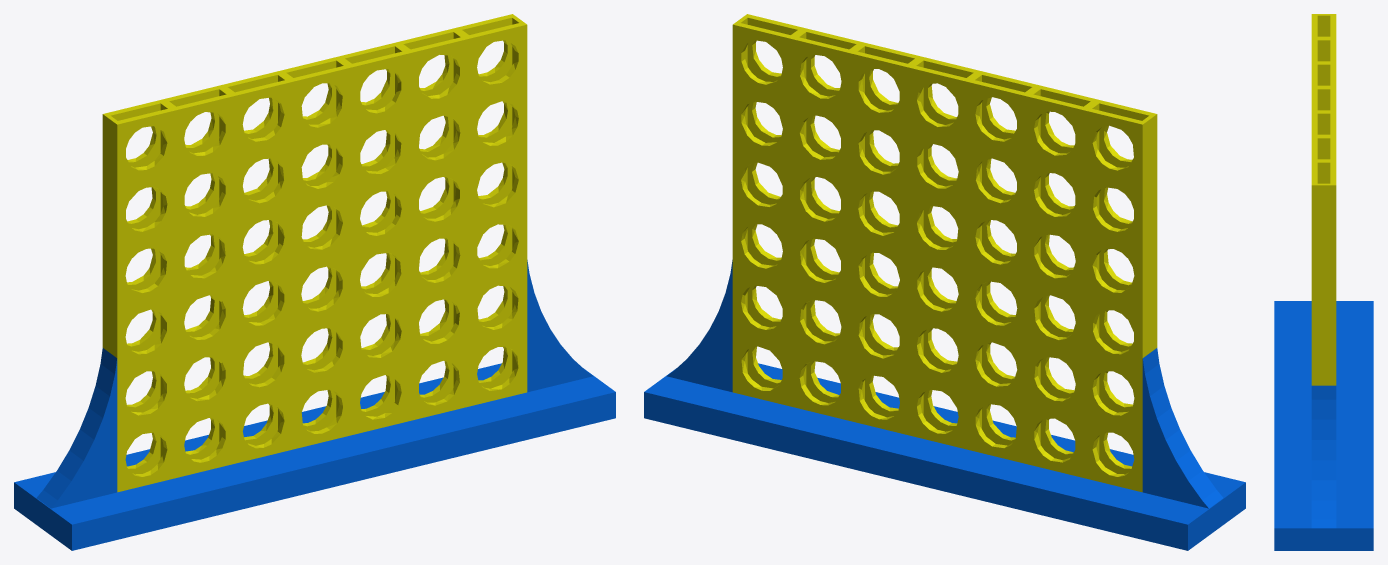
Rendered from Board.fbx.
The picture shows the model from 3 angles, left to right: view 1: azimuth 30°, elevation 25°; view 2: azimuth 150°, elevation 25°; view 3: azimuth 270°, elevation 25°; orthographic projection. The views are drawn at different scales.
Parts seen in each view (by area): view 1: Board; view 2: Board; view 3: Board.
Boxes of the visible parts, left/top/right/bottom form: Board: left=14, top=14, right=615, bottom=550; Board: left=644, top=14, right=1245, bottom=550; Board: left=1274, top=14, right=1373, bottom=550.
Bounding box in the file's own units: 13 × 9 × 2.4.
